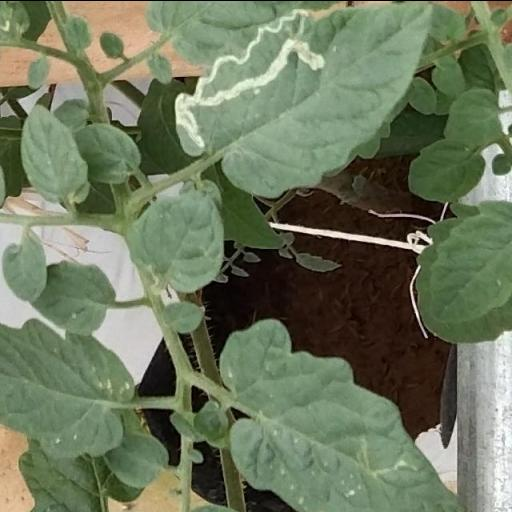disease_tomato: (173, 2, 443, 198)
